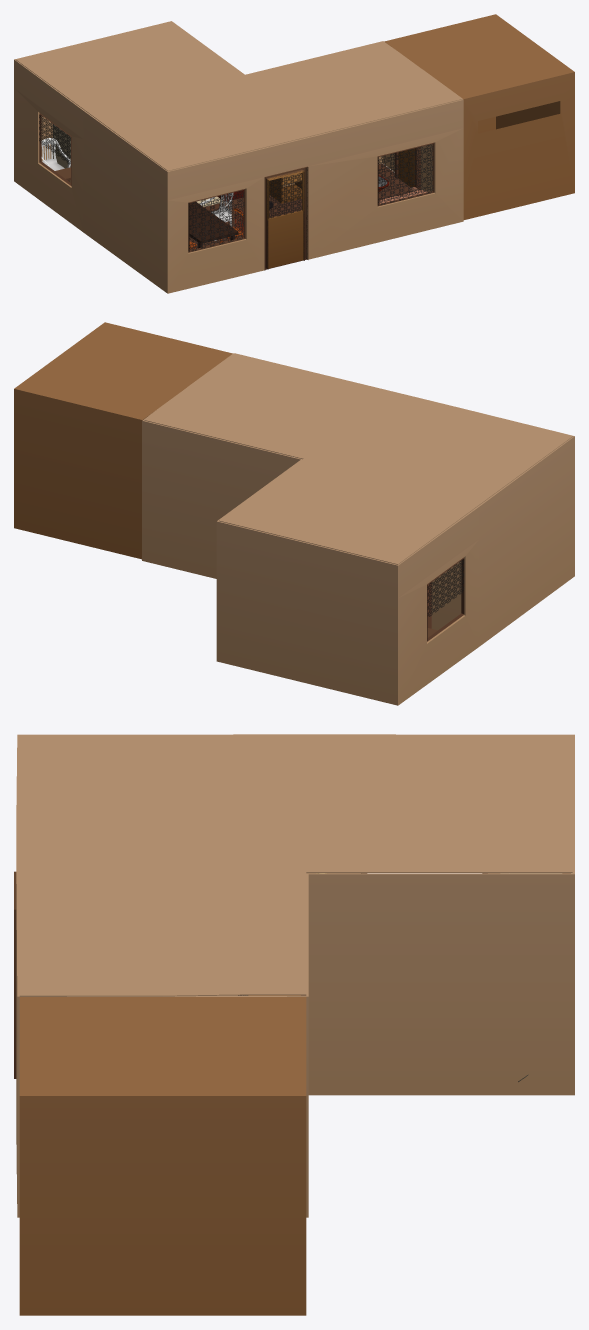
Rendered from sala_de_estar.glb.
3 views of the same model, one above another, from view 1: azimuth 30°, elevation 25°; view 2: azimuth 150°, elevation 25°; view 3: azimuth 270°, elevation 25° (orthographic). The views are drawn at different scales.
Parts seen in each view (by area): view 1: parede, teto, garagem, porta_saida, janela.003, janela.001, chao, mesa, janela.002, porta, estante.001, geladeira (+2 smaller); view 2: parede, teto, garagem, janela.002; view 3: teto, garagem, parede.
Boxes of the visible parts, x1=… form: parede: x1=14, y1=21, x2=463, y2=293; teto: x1=15, y1=21, x2=462, y2=171; garagem: x1=384, y1=14, x2=574, y2=219; porta_saida: x1=264, y1=166, x2=308, y2=270; janela.003: x1=188, y1=188, x2=245, y2=252; janela.001: x1=377, y1=142, x2=434, y2=206; chao: x1=189, y1=163, x2=409, y2=269; mesa: x1=189, y1=202, x2=238, y2=248; janela.002: x1=39, y1=113, x2=71, y2=186; porta: x1=394, y1=147, x2=420, y2=190; estante.001: x1=269, y1=173, x2=301, y2=203; geladeira: x1=52, y1=124, x2=70, y2=180; parede: x1=142, y1=354, x2=574, y2=705; teto: x1=144, y1=353, x2=573, y2=564; garagem: x1=14, y1=322, x2=232, y2=559; janela.002: x1=427, y1=558, x2=464, y2=641; teto: x1=19, y1=734, x2=572, y2=996; garagem: x1=19, y1=997, x2=306, y2=1315; parede: x1=16, y1=734, x2=574, y2=1217.
Size of what is drawn, in the model's own units: 9.61 by 2.76 by 6.31.
Materials: 30 (27 with a texture image).
